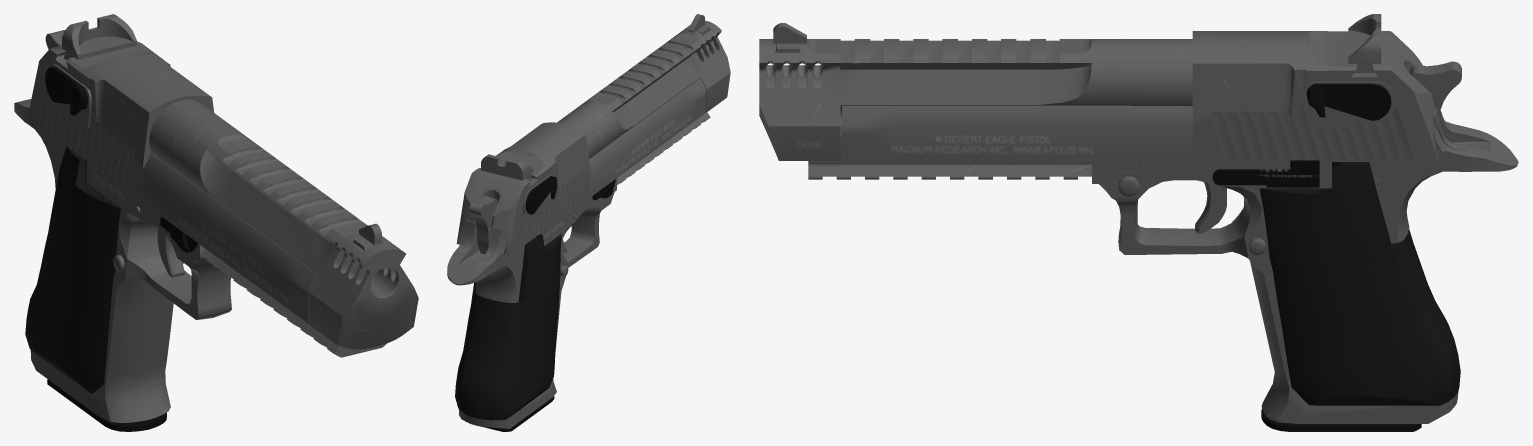
The model's file is falcon_model.fbx.
3 views of the same model, side by side, from view 1: azimuth 30°, elevation 25°; view 2: azimuth 150°, elevation 25°; view 3: azimuth 270°, elevation 25° (orthographic). The views are drawn at different scales.
Parts seen in each view (by area): view 1: model; view 2: model; view 3: model.
Boxes of the visible parts, bbox=[...] form: model: bbox=[14, 14, 418, 431]; model: bbox=[447, 14, 730, 431]; model: bbox=[759, 14, 1518, 431].
Bounding box in the file's own units: 0.3883 × 2.49 × 1.42.
